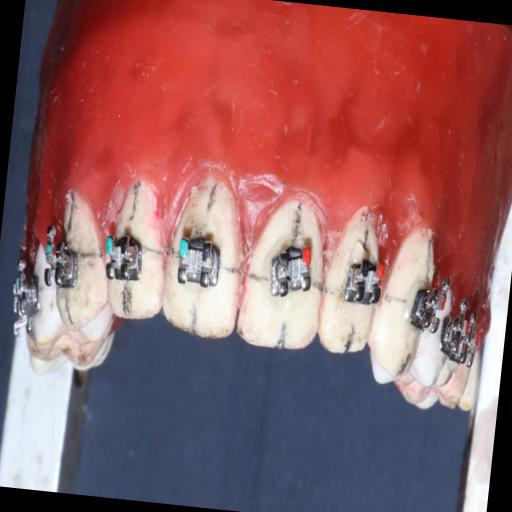correct_brace: (172, 227, 228, 293)
incorrect_brace: (263, 230, 317, 305)
